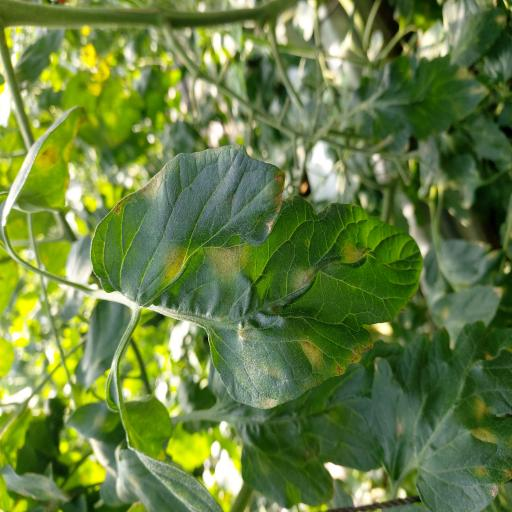Leaf Mold: (156, 195, 422, 410), (344, 324, 512, 512), (91, 143, 285, 305)
